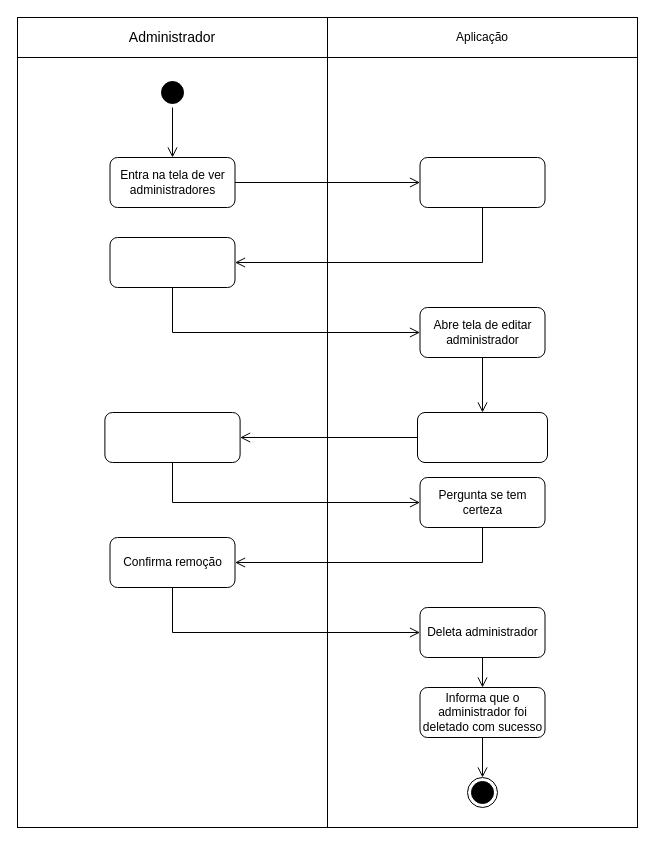
Some shapes in this 655 by 845 pixel diagram are drawn without their labels. Each missing label, with the box of its shape:
Mostra administradores: (419, 156, 545, 208)
Mostra dados: (416, 412, 548, 462)
Seleciona deletar administrador: (104, 412, 240, 462)
Seleciona editar administrador: (109, 236, 235, 288)
